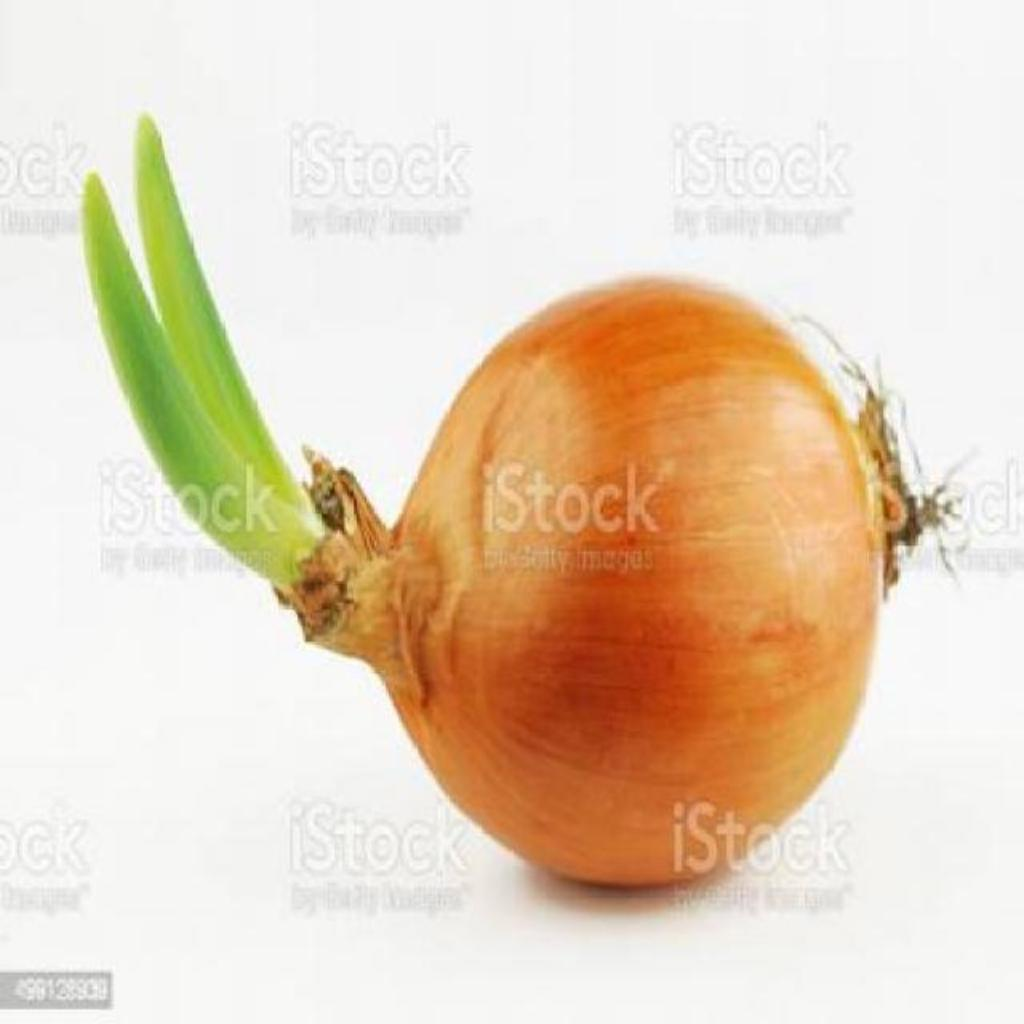Onion: (293, 278, 912, 893)
